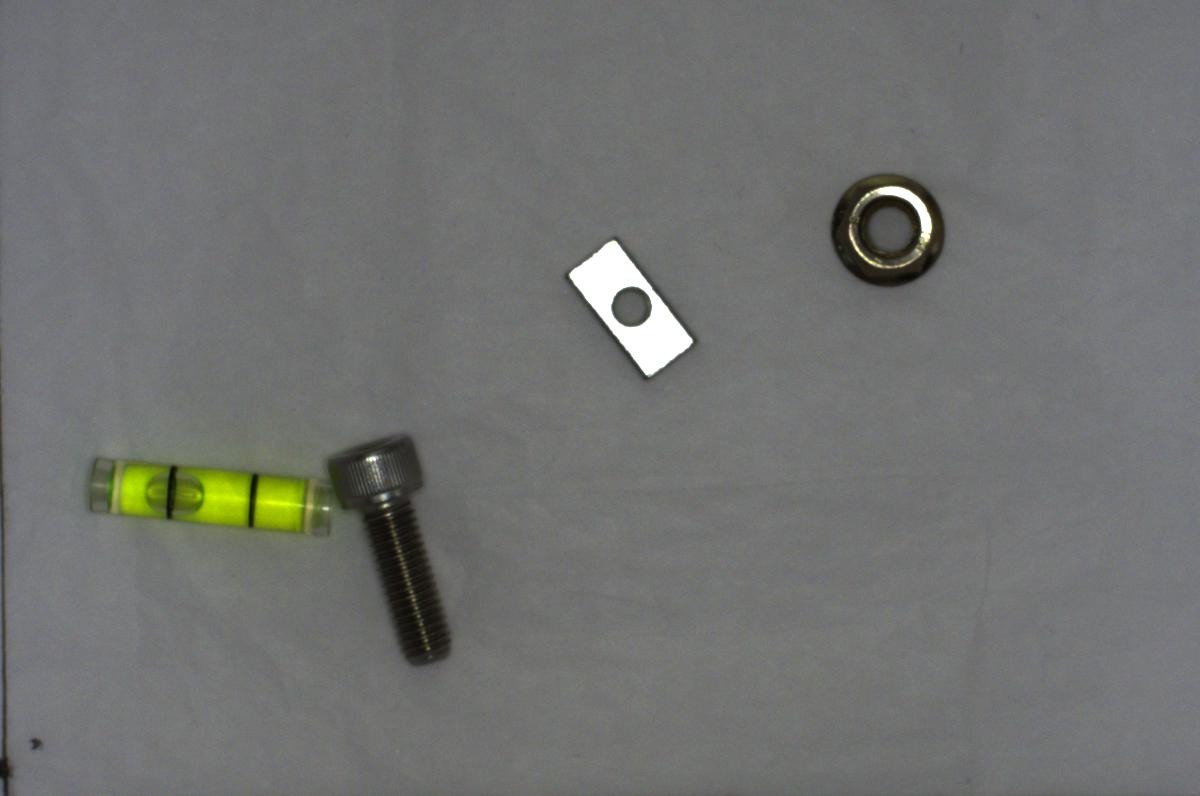Flange nut: (820, 172, 954, 285)
Hexagon screw: (331, 427, 458, 670)
Horizontal bubble: (81, 453, 334, 541)
Rectangular nut: (566, 235, 704, 381)
